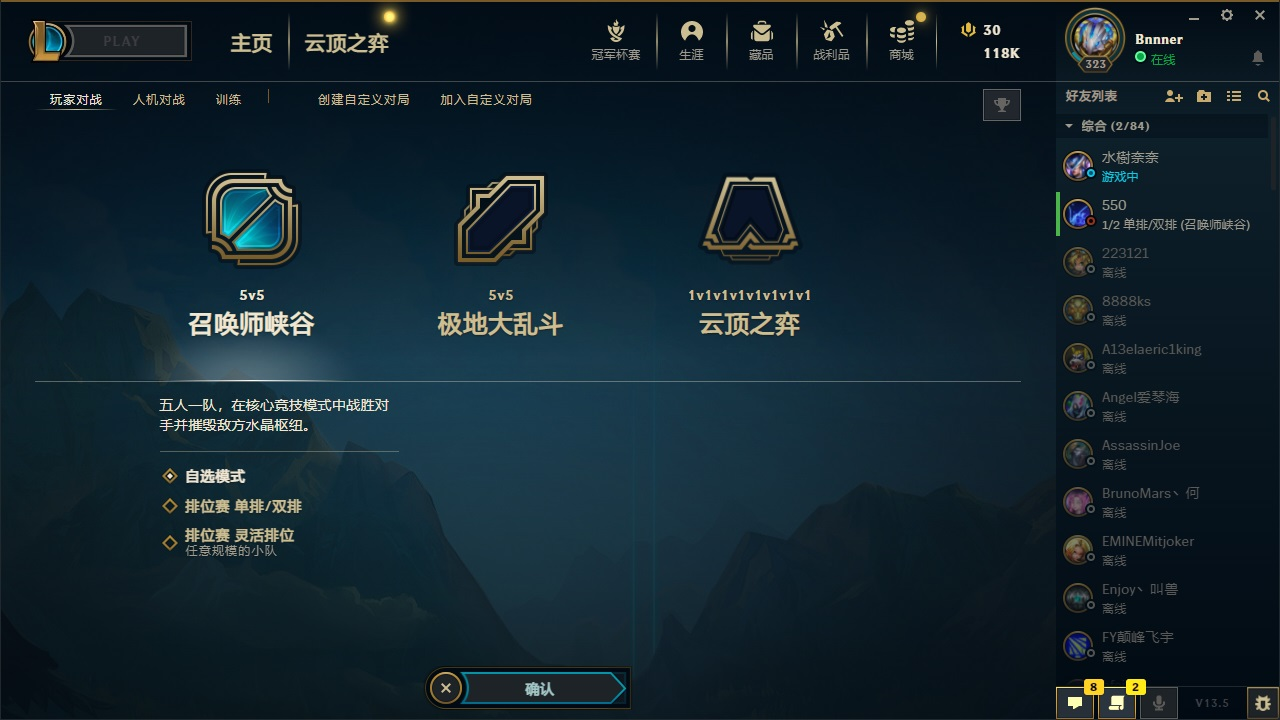HSPLAY: (64, 14, 190, 64)
QR: (466, 667, 602, 706)
RJDZ: (130, 88, 190, 114)
